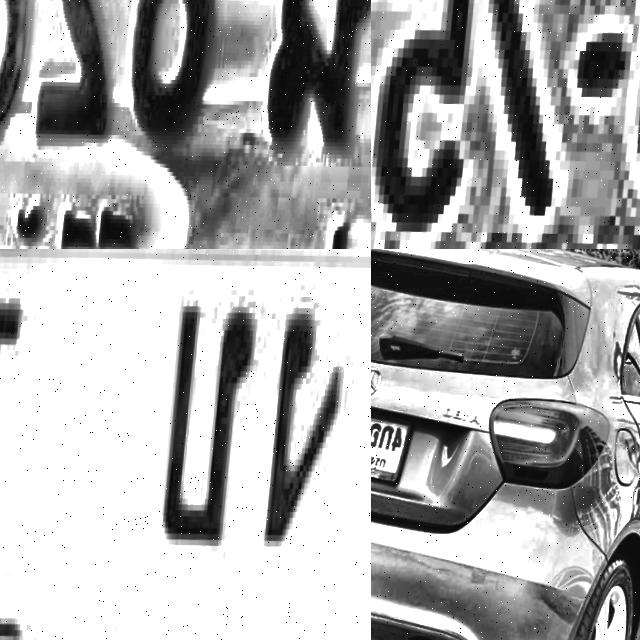license-plate: (0, 249, 371, 640), (0, 0, 371, 249), (371, 0, 640, 249), (371, 395, 420, 491)
